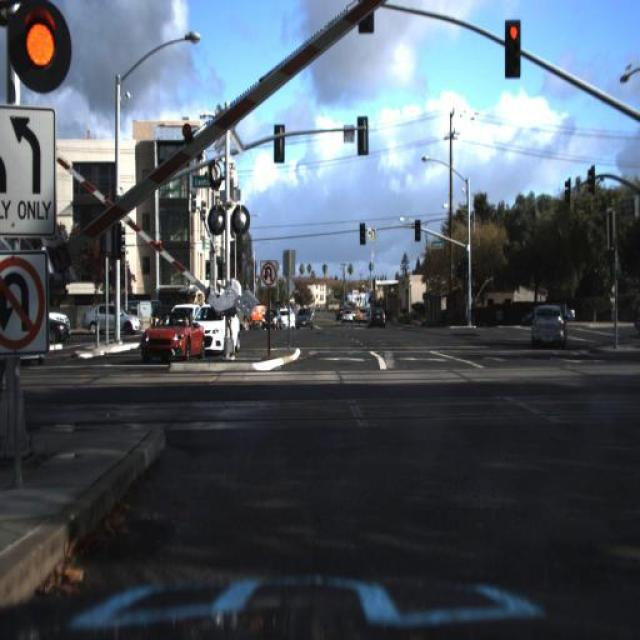car: (142, 306, 206, 360), (530, 290, 578, 362), (76, 302, 142, 342), (200, 306, 246, 354), (536, 297, 582, 324), (368, 296, 394, 339), (36, 316, 70, 346), (44, 319, 68, 353), (292, 304, 314, 331), (261, 308, 283, 334), (46, 310, 74, 330), (276, 305, 292, 336), (258, 305, 278, 327), (330, 298, 344, 324), (331, 294, 343, 324), (342, 297, 352, 332), (357, 300, 368, 330)
trafficLight-Green: (503, 18, 521, 78), (356, 210, 372, 250), (412, 214, 422, 242)
trafficLight-GreenLeft: (459, 251, 470, 283)
trafficLight-RedLeft: (0, 0, 106, 101), (496, 12, 529, 87)
